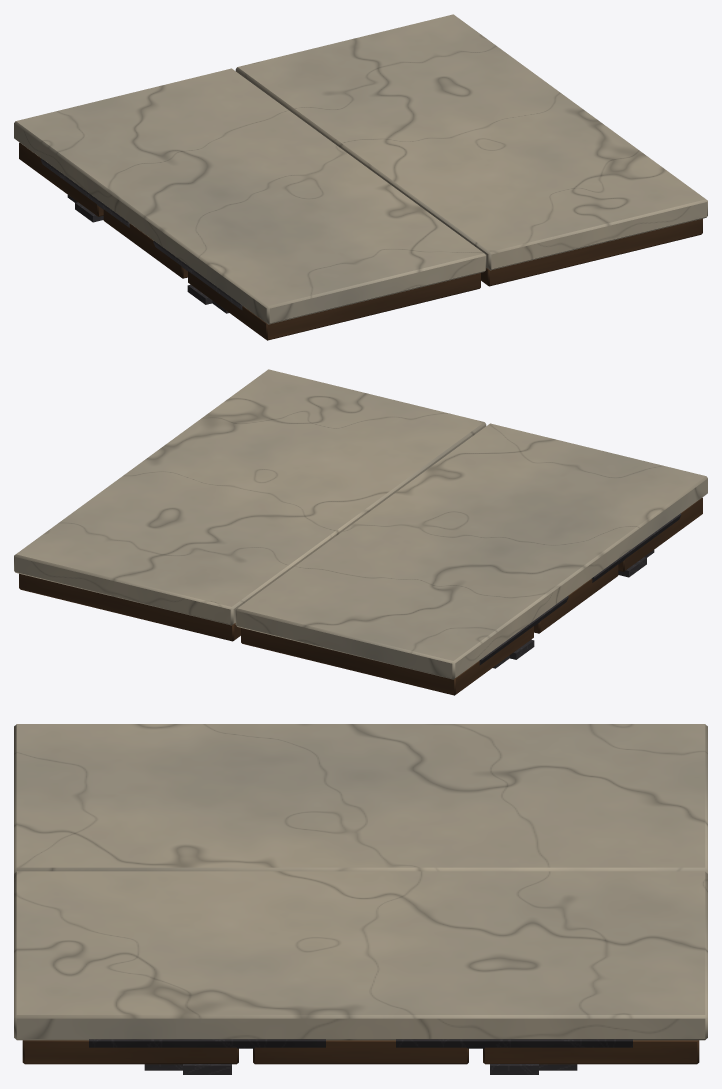
The model's file is trapdoor_light.glb.
3 views of the same model, one above another, from view 1: azimuth 30°, elevation 25°; view 2: azimuth 150°, elevation 25°; view 3: azimuth 270°, elevation 25° (orthographic). The views are drawn at different scales.
Visible parts, largest first — view 1: leaf_left, leaf_right; view 2: leaf_left, leaf_right; view 3: leaf_right, leaf_left.
Boxes of the visible parts, box(x1,y1,x2,y2) form: leaf_left: box(14, 68, 486, 340); leaf_right: box(235, 14, 707, 286); leaf_left: box(235, 423, 707, 695); leaf_right: box(14, 369, 486, 641); leaf_right: box(14, 871, 707, 1074); leaf_left: box(14, 724, 707, 873).
Bounding box in the file's own units: 0.995 × 0.093 × 0.995.
3 materials, 3 textured.
